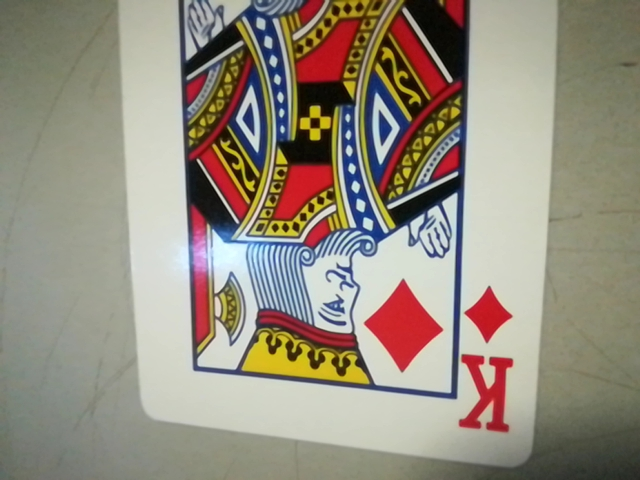fk k: (452, 280, 525, 447)
